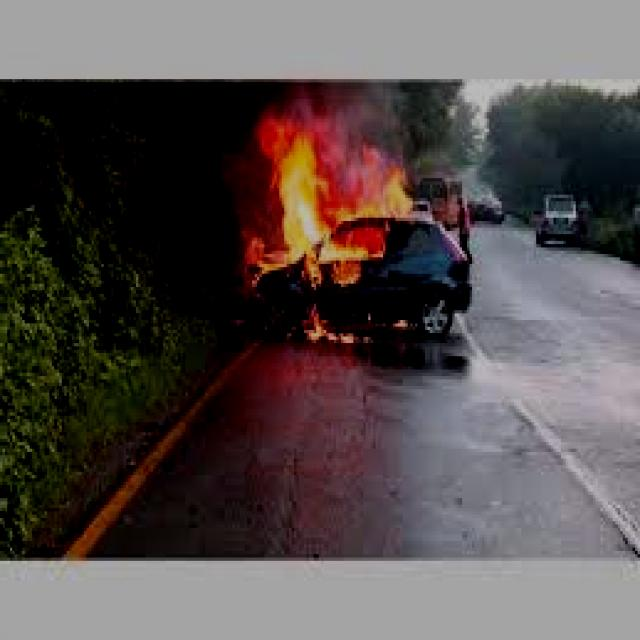fire: (240, 109, 418, 303)
